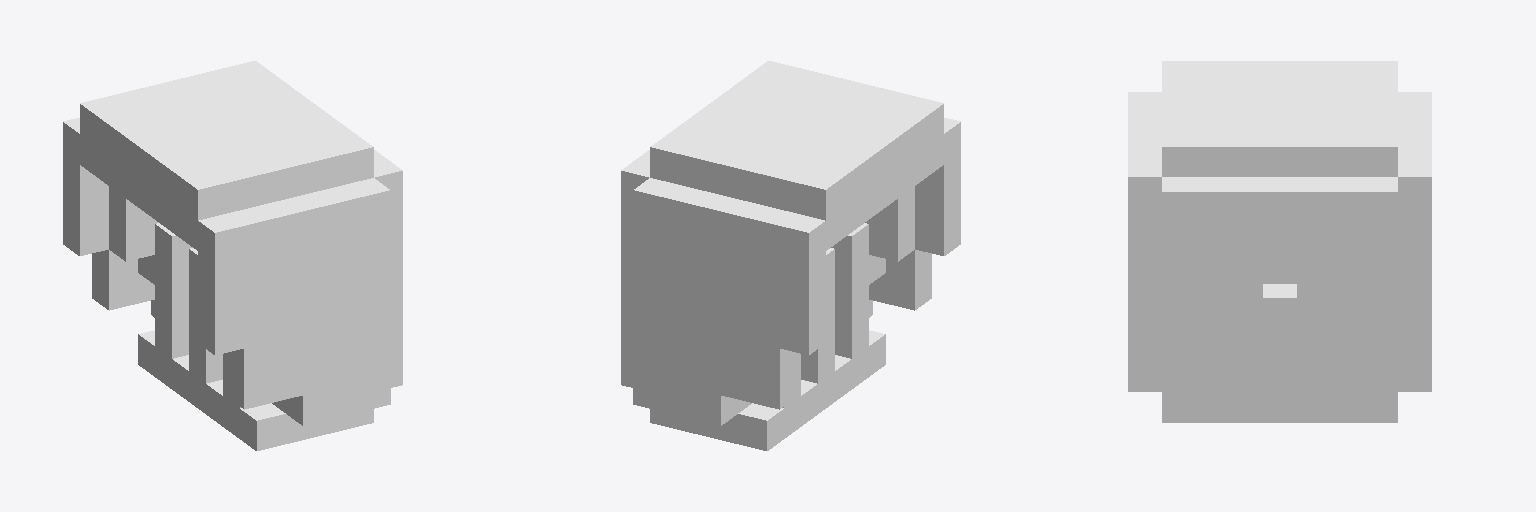
The model's file is WeaponBattery#3.obj.
The picture shows the model from 3 angles: view 1: azimuth 30°, elevation 25°; view 2: azimuth 150°, elevation 25°; view 3: azimuth 270°, elevation 25°; orthographic projection.
Parts seen in each view (by area): view 1: object 1; view 2: object 1; view 3: object 1.
Part boxes in pixels (left/top/right/bottom): object 1: left=63, top=61, right=402, bottom=450; object 1: left=621, top=61, right=960, bottom=450; object 1: left=1128, top=61, right=1431, bottom=422.
Bounding box in the file's own units: 0.8 × 0.9 × 0.9.